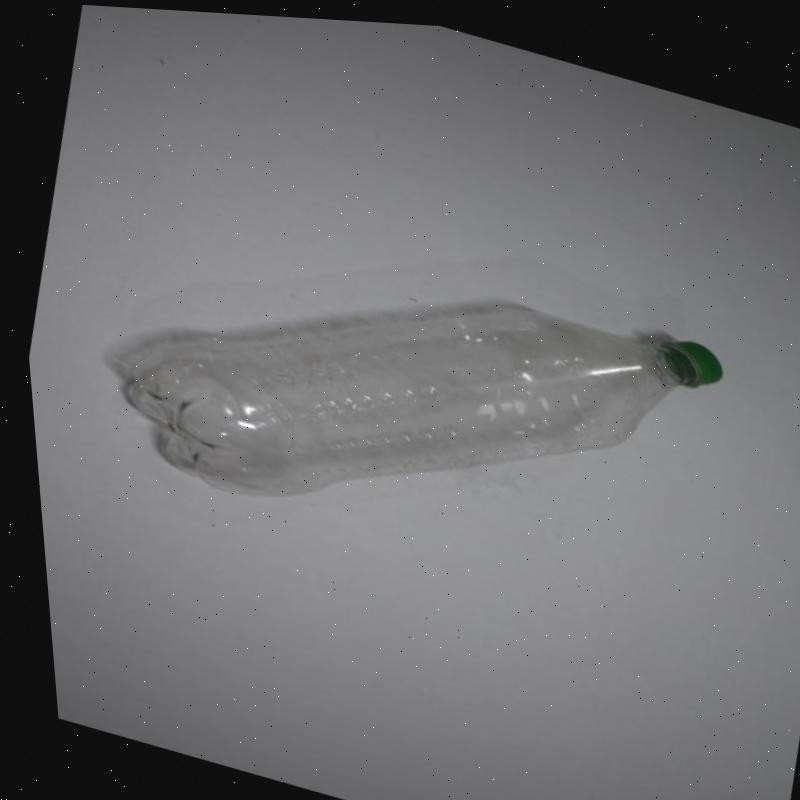botella: (69, 174, 740, 613)
